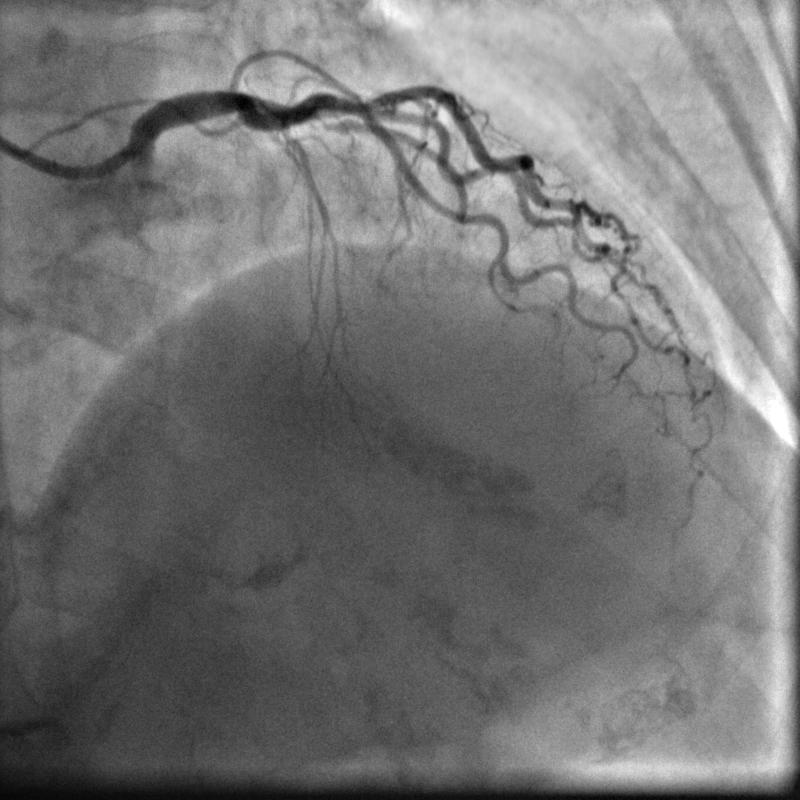Stenosis: (314, 112, 355, 134)
